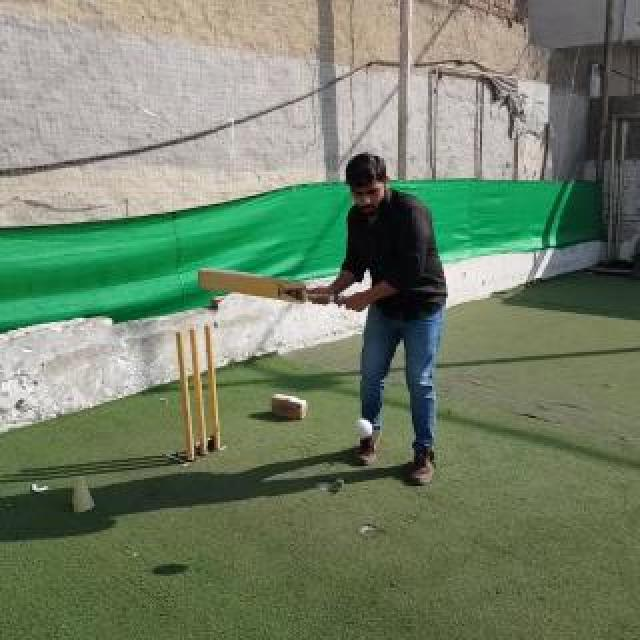ball: (353, 418, 373, 438)
bat: (198, 268, 362, 304)
